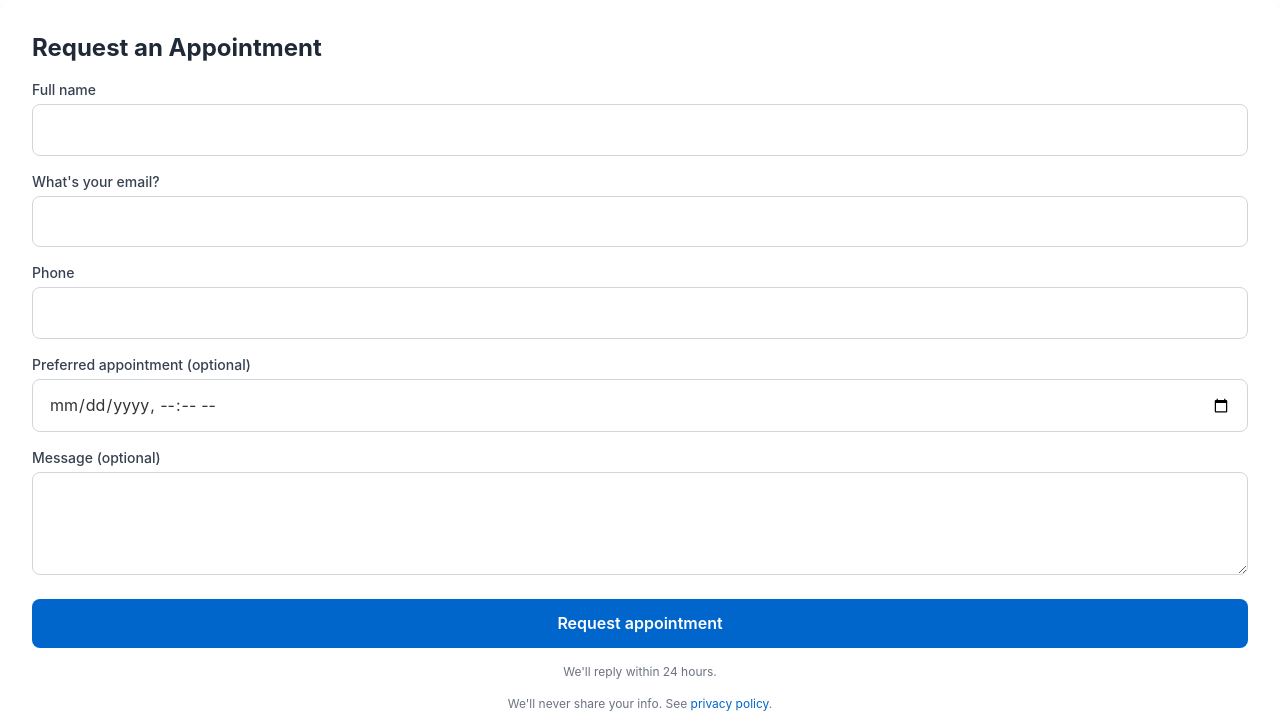
Test: LeadForm › validates required fields
This screenshot has width=1280, height=720.
Click the button "Request appointment" at (640, 624), box [32,599,1248,648]
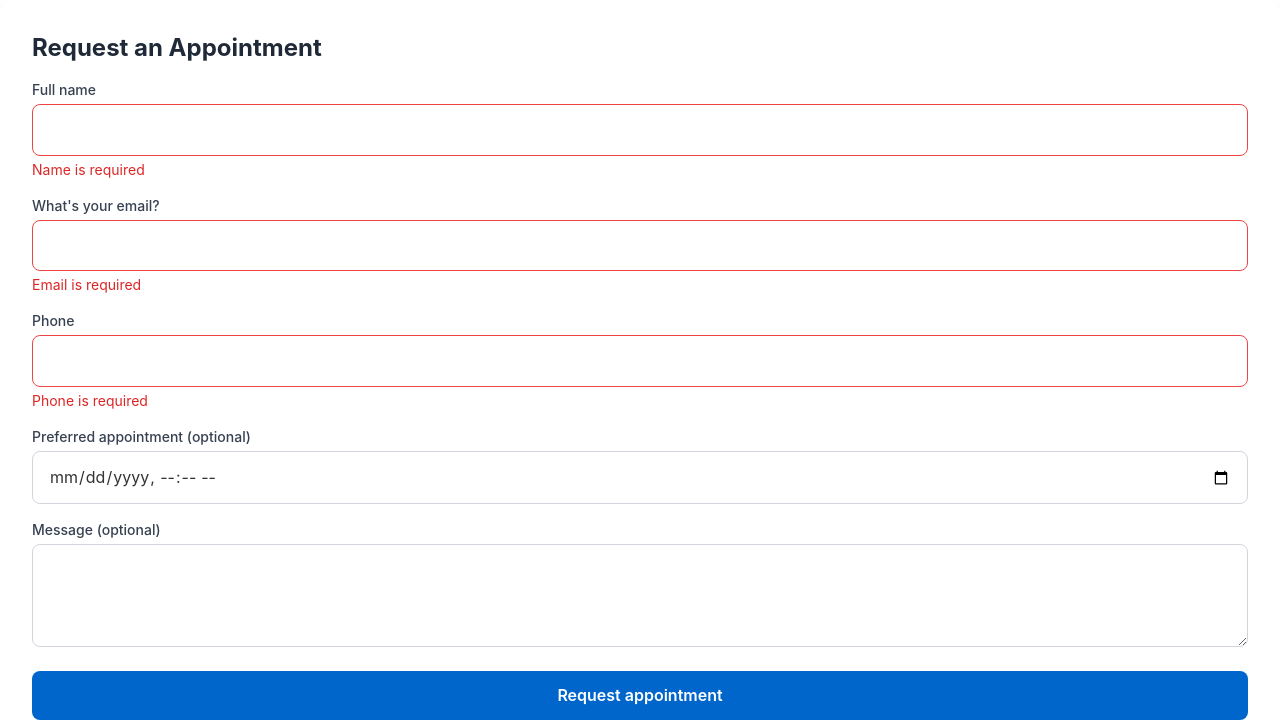
Expected: the text "Name is required" is shown, [32,161,145,178]
Expected: the text "Email is required" is shown, [32,276,141,293]
Expected: the text "Phone is required" is shown, [32,392,148,409]
